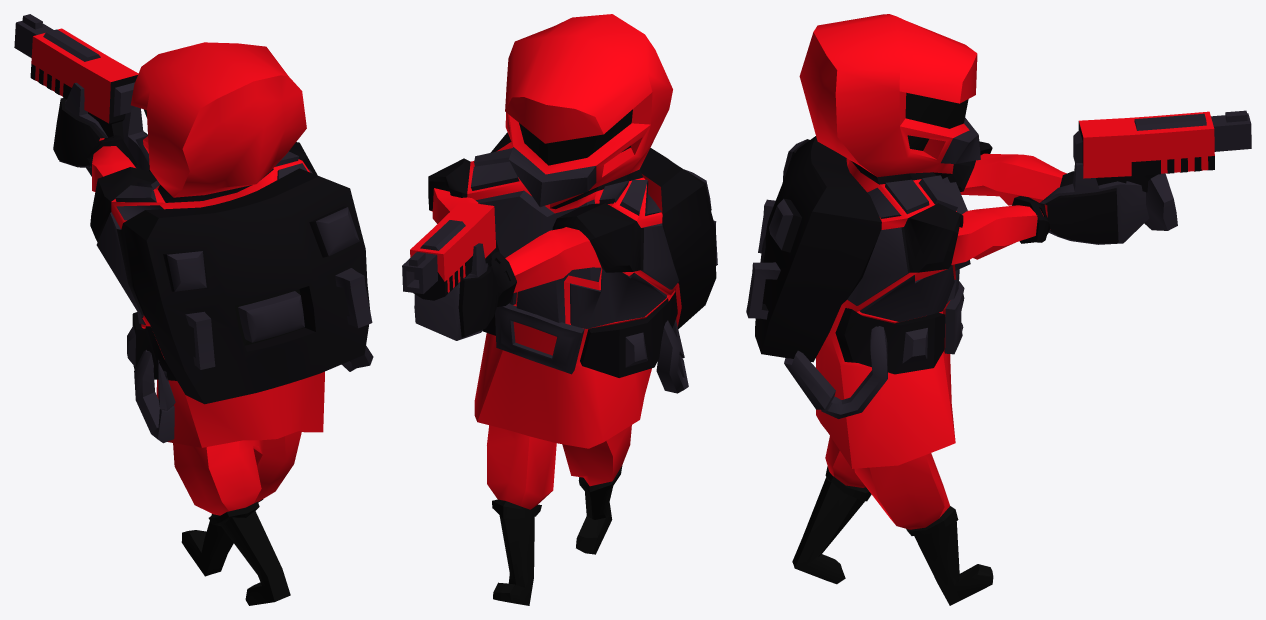
File: soldier1.obj
The picture shows the model from 3 angles, left to right: view 1: azimuth 30°, elevation 25°; view 2: azimuth 150°, elevation 25°; view 3: azimuth 270°, elevation 25°; orthographic projection.
Parts seen in each view (by area): view 1: Cube; view 2: Cube; view 3: Cube.
Boxes of the visible parts, <box> form: Cube: <box>14,14,373,605</box>; Cube: <box>402,14,717,605</box>; Cube: <box>746,14,1251,605</box>.
Size of the model in its own units: 1.93 by 4.58 by 3.69.
